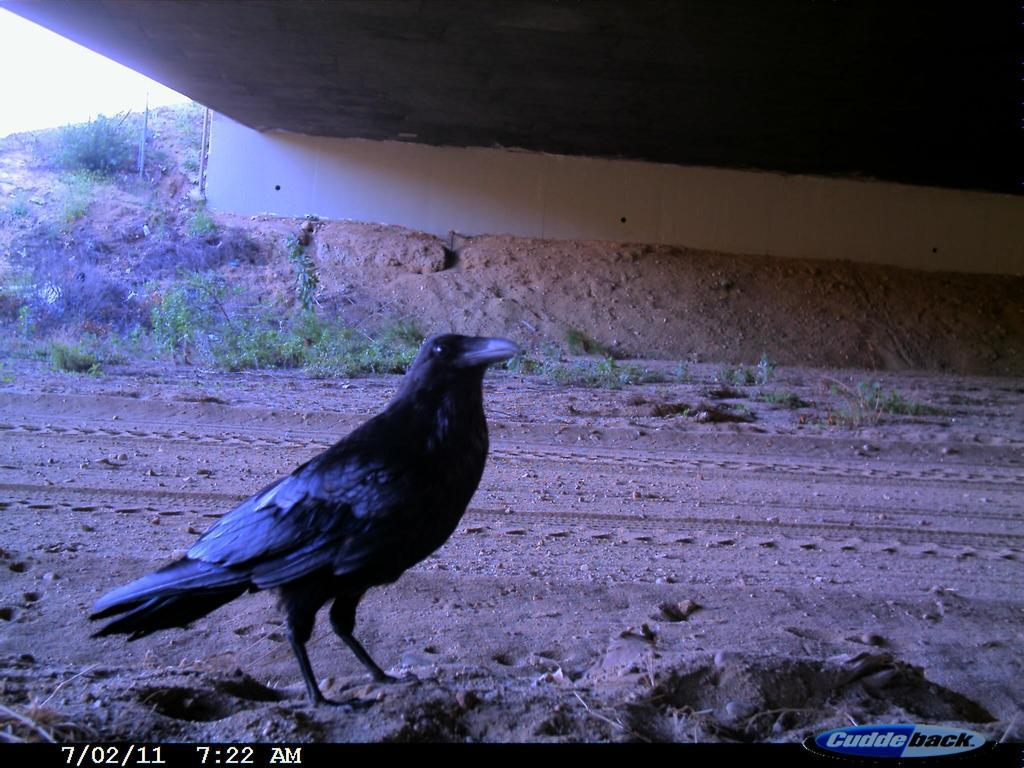bird: (82, 329, 530, 708)
